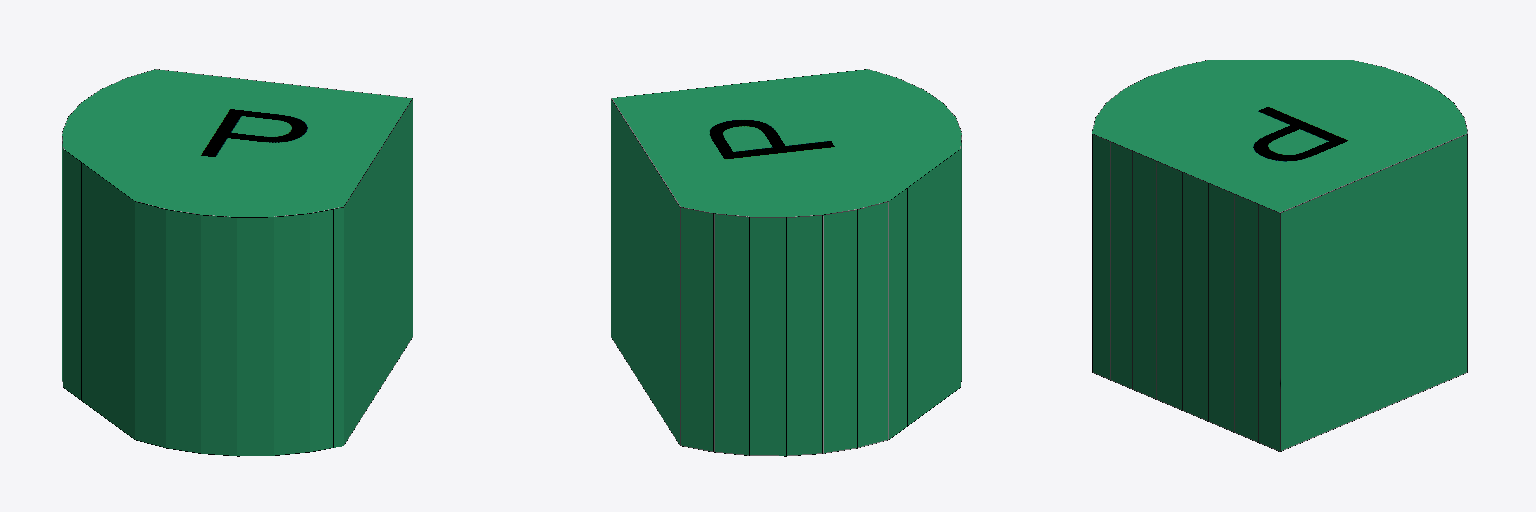
3 views of the same model, side by side, from view 1: azimuth 30°, elevation 25°; view 2: azimuth 150°, elevation 25°; view 3: azimuth 270°, elevation 25° (orthographic).
Visible parts, largest first — view 1: 円柱; view 2: 円柱; view 3: 円柱.
Part boxes in pixels (x1,y1,x2,y2): 円柱: (62, 69, 412, 456); 円柱: (611, 69, 961, 456); 円柱: (1092, 60, 1467, 451).
Size of the model in its own units: 1.92 by 1.4 by 2.
1 materials, 1 textured.